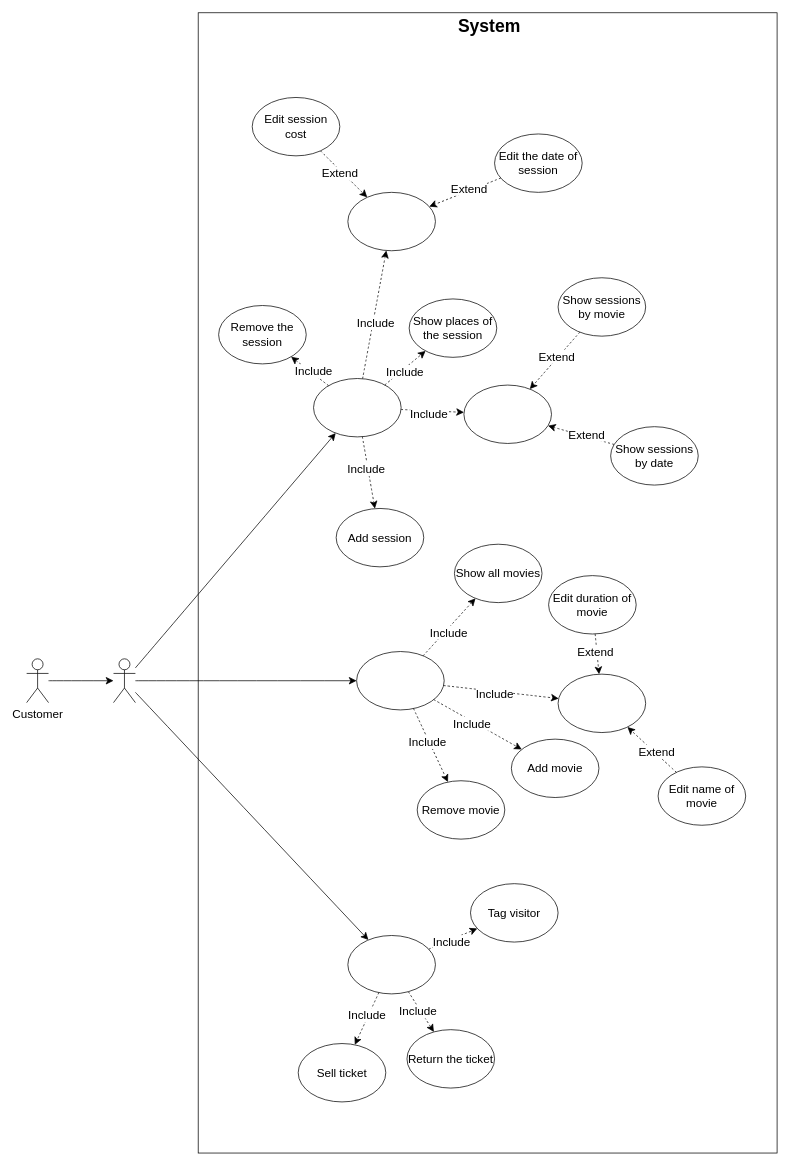
The diagram is 790 pixels wide and 1166 high, and some of its shapes have lost their labels. Each missing label, with the box of its shape:
admin: (113, 658, 135, 703)
Edit movie: (557, 673, 646, 733)
Edit session: (347, 192, 435, 251)
Moderate movies: (356, 651, 444, 710)
Moderate sessions: (313, 378, 401, 437)
Moderate Tickets: (347, 935, 435, 994)
Show all sessions: (463, 384, 552, 443)
